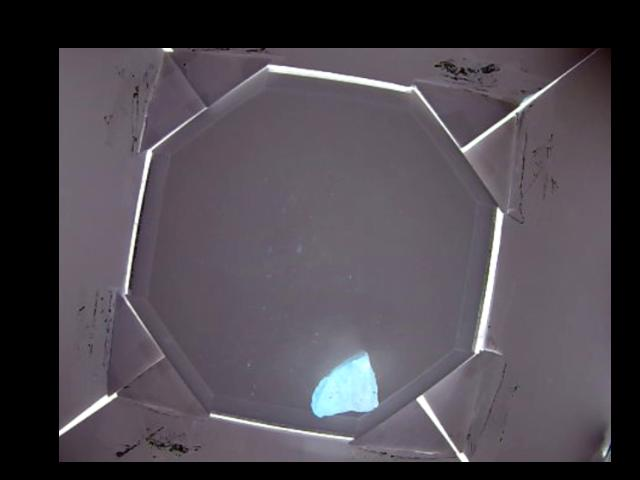Brisk: (312, 349, 379, 417)
